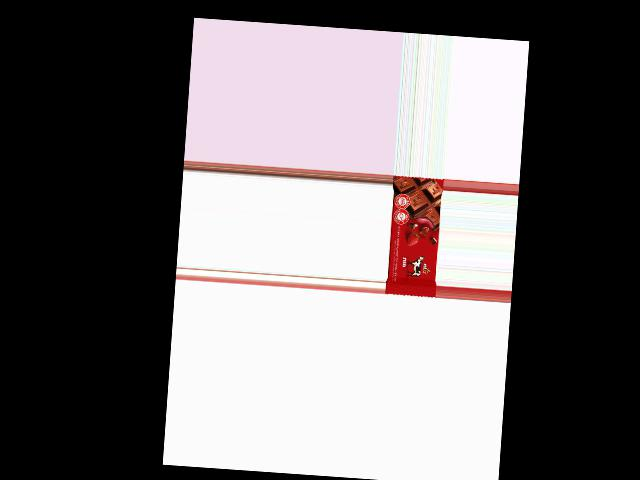chocolate: (384, 176, 443, 298)
